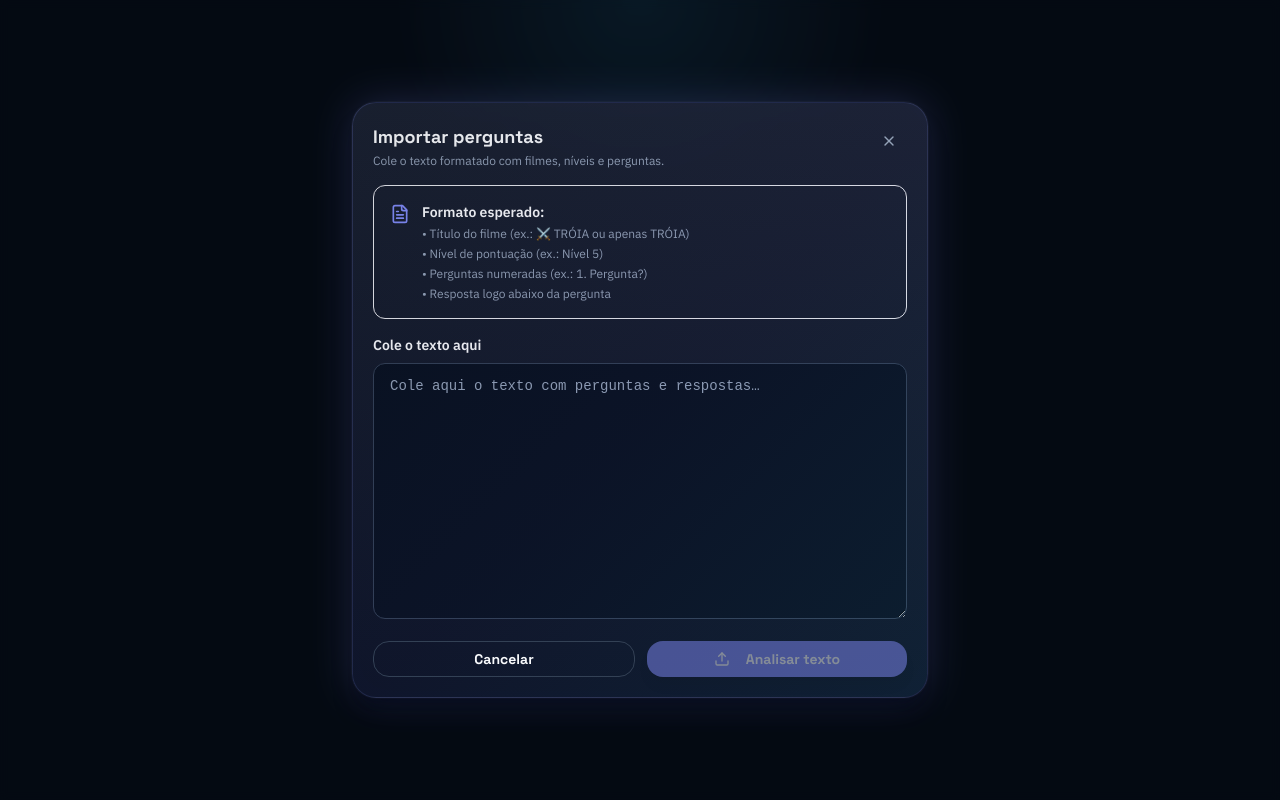
QuestionImportModal › Parsing de Texto › deve identificar filme e perguntas corretamente
The image size is (1280, 800).
In the text box with placeholder "Cole aqui o texto com perguntas e respostas…": (640, 491) left=373, top=363, right=907, bottom=619, type "⚔️ TRÓIA Nível 5 1. Qual é o nome do protagonista? Aquiles 2. Em que ano o filme foi lançado? 2004"
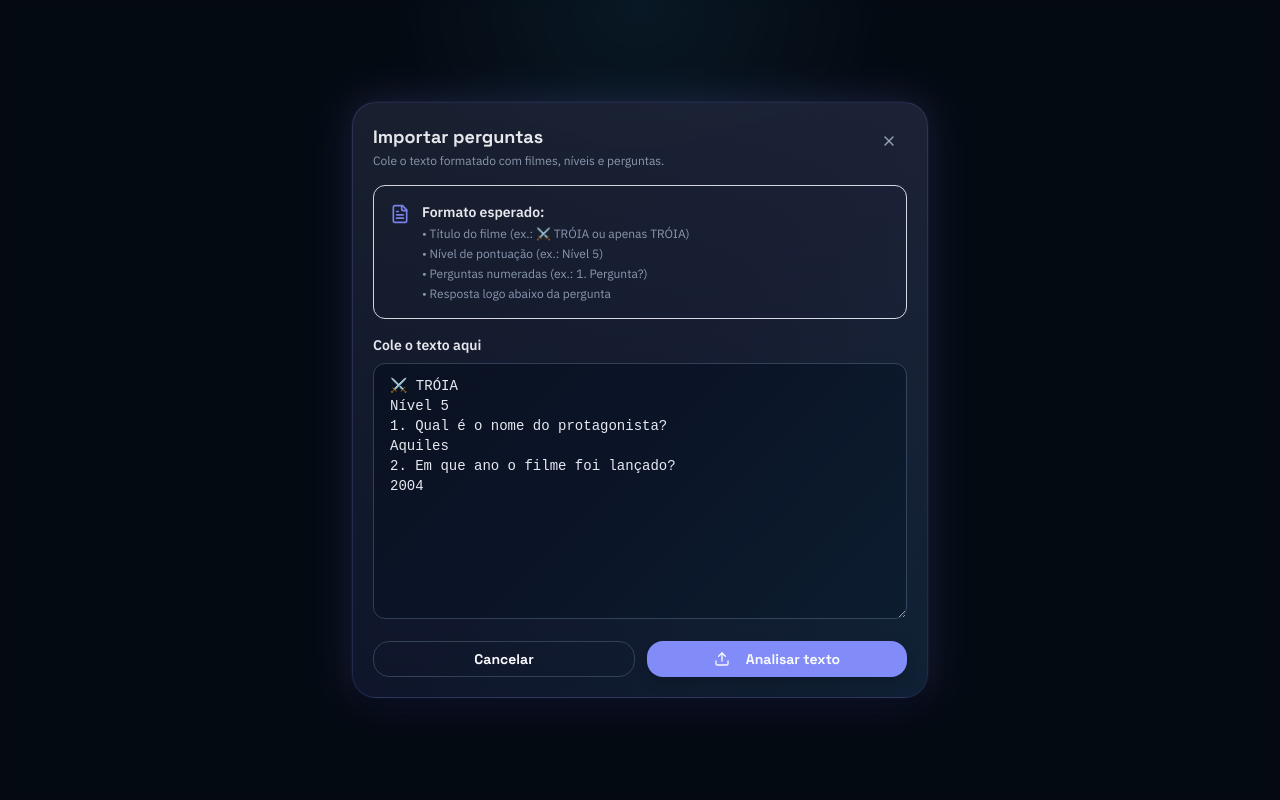
Click the button "Analisar texto": (777, 659) left=647, top=641, right=907, bottom=677
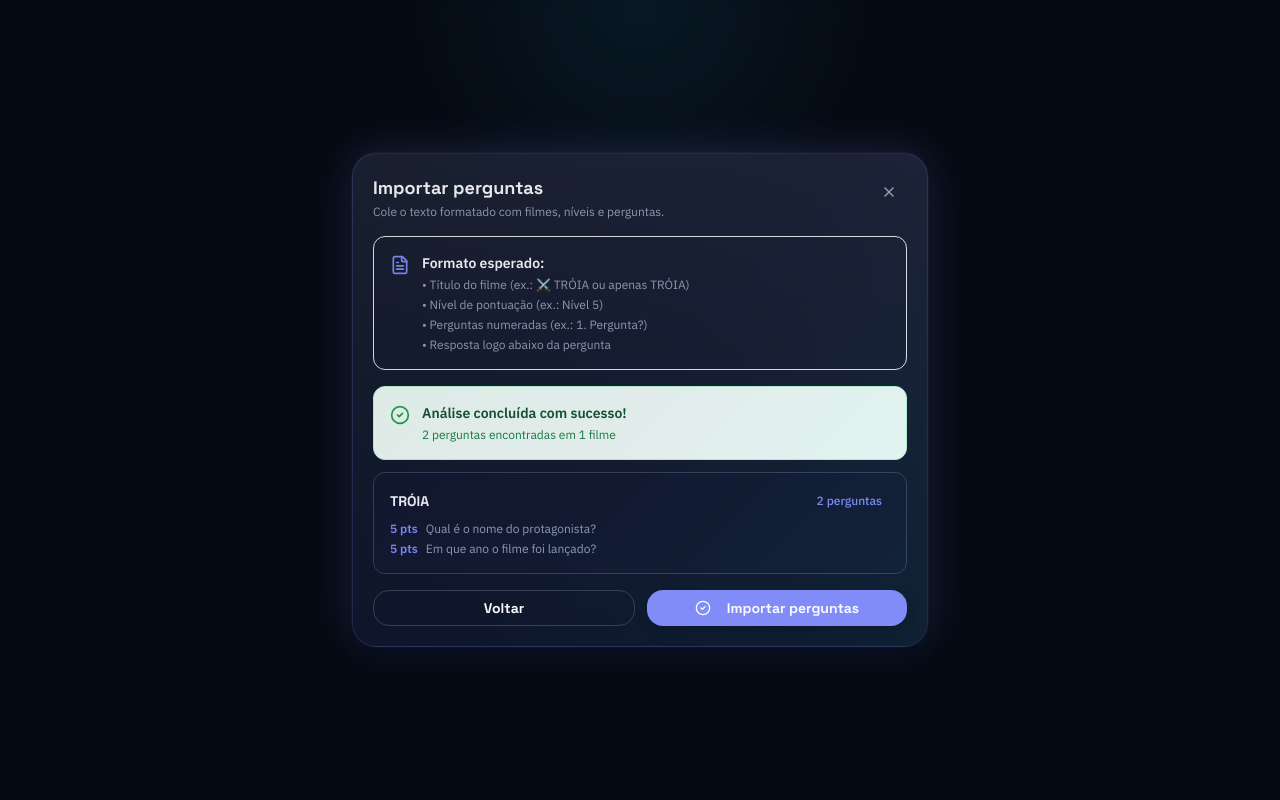
Expected: the text "Análise concluída com sucesso!" is shown, left=422, top=403, right=627, bottom=423
Expected: the text "2 perguntas encontradas em 1 filme" is shown, left=422, top=427, right=627, bottom=443
